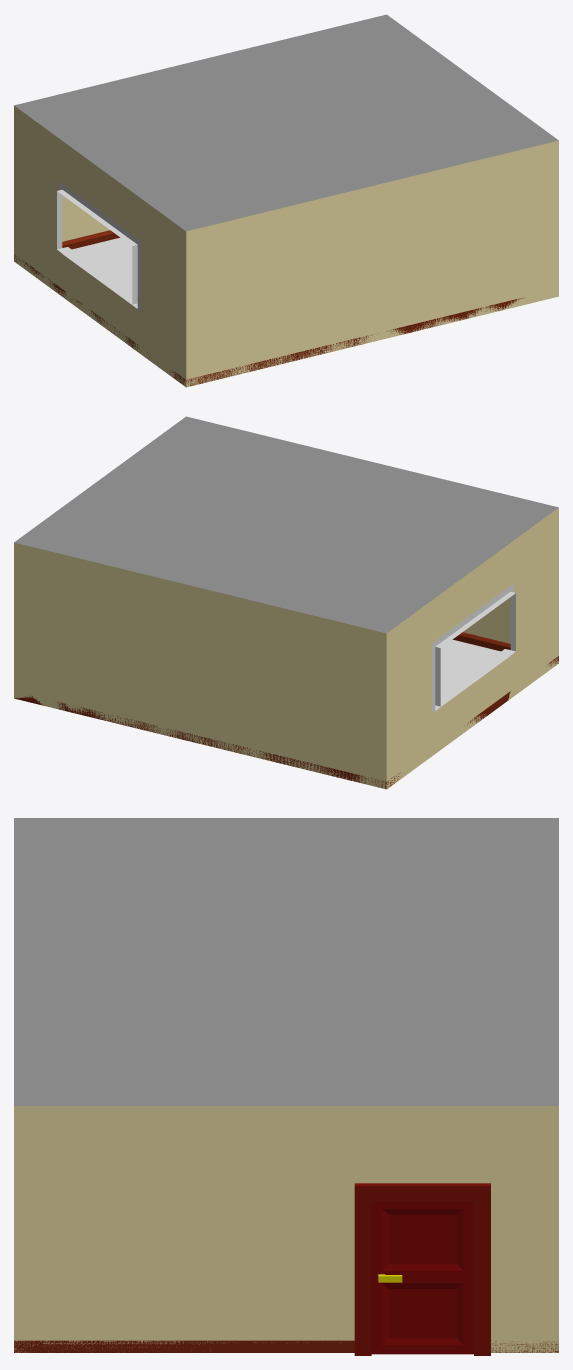
File: 3Rooms.fbx
3 views of the same model, one above another, from view 1: azimuth 30°, elevation 25°; view 2: azimuth 150°, elevation 25°; view 3: azimuth 270°, elevation 25° (orthographic). The views are drawn at different scales.
Parts seen in each view (by area): view 1: MainRoom, NearFloor; view 2: MainRoom, NearFloor; view 3: MainRoom, Door, DoorRama, NearFloor.
Boxes of the visible parts, x1,y1,x2,y2 form: MainRoom: [14, 14, 558, 387]; NearFloor: [14, 230, 524, 386]; MainRoom: [14, 416, 558, 789]; NearFloor: [14, 632, 558, 788]; MainRoom: [14, 818, 558, 1352]; Door: [371, 1201, 473, 1354]; DoorRama: [354, 1183, 490, 1355]; NearFloor: [14, 1340, 558, 1352].
Size of the model in its own units: 2055 by 800 by 1600.
